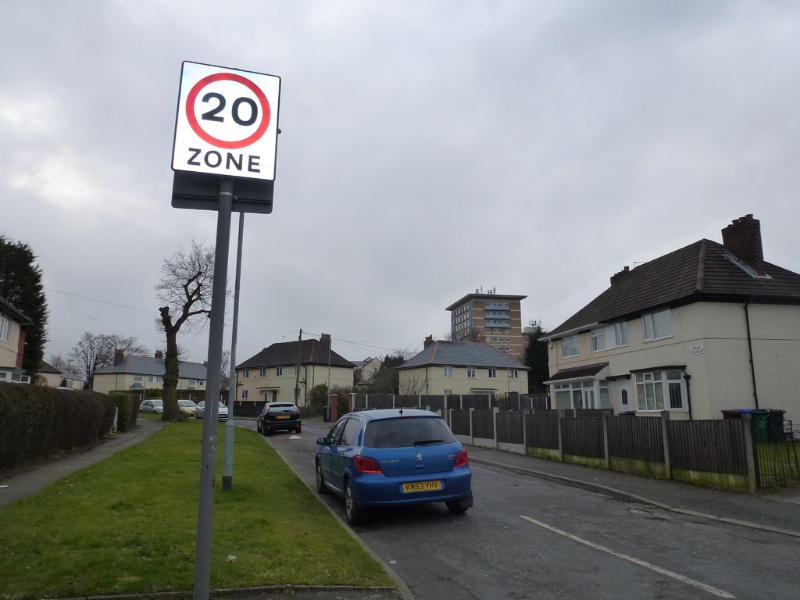speed_limit_20: (181, 62, 275, 151)
